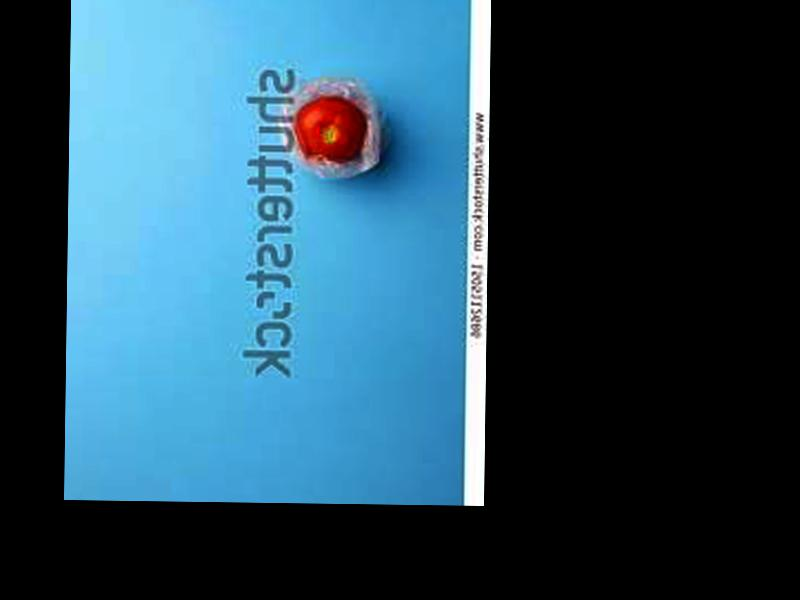Tomato: (294, 98, 364, 163)
